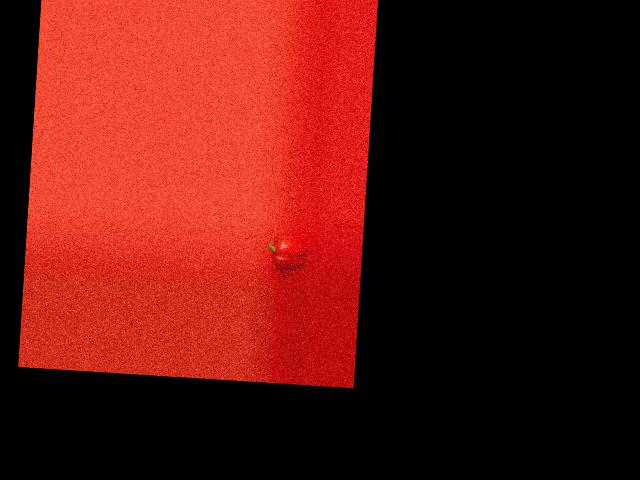bell_pepper: (265, 234, 309, 272)
